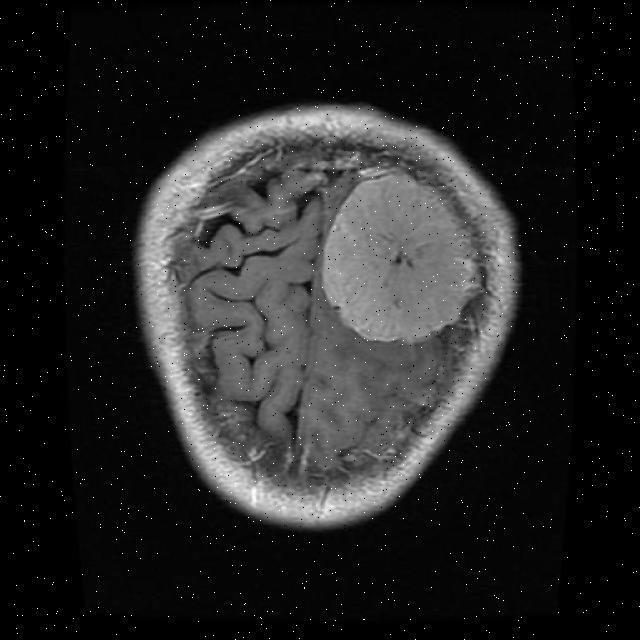Meningioma: (321, 173, 480, 341)
